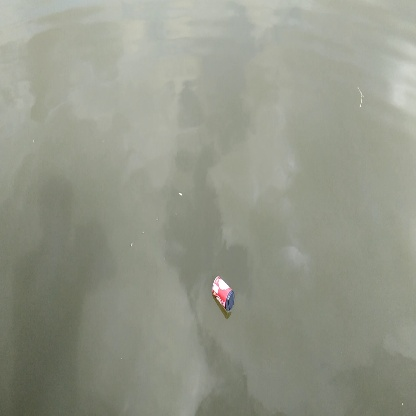bottle: (207, 273, 240, 315)
